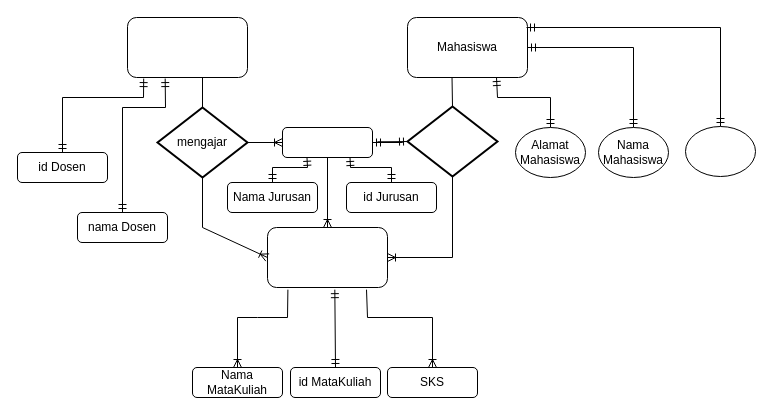
The diagram is 773 pixels wide and 415 high, and some of its shapes have lost their labels. Here are the shapes that lost their labels. From the top down, the centre of each, then its label:
At point 187,47: "Dosen".
At point 327,142: "Jurusan".
At point 452,141: "ambil".
At point 720,151: "NIM".
At point 327,257: "Mata Kuliah".
